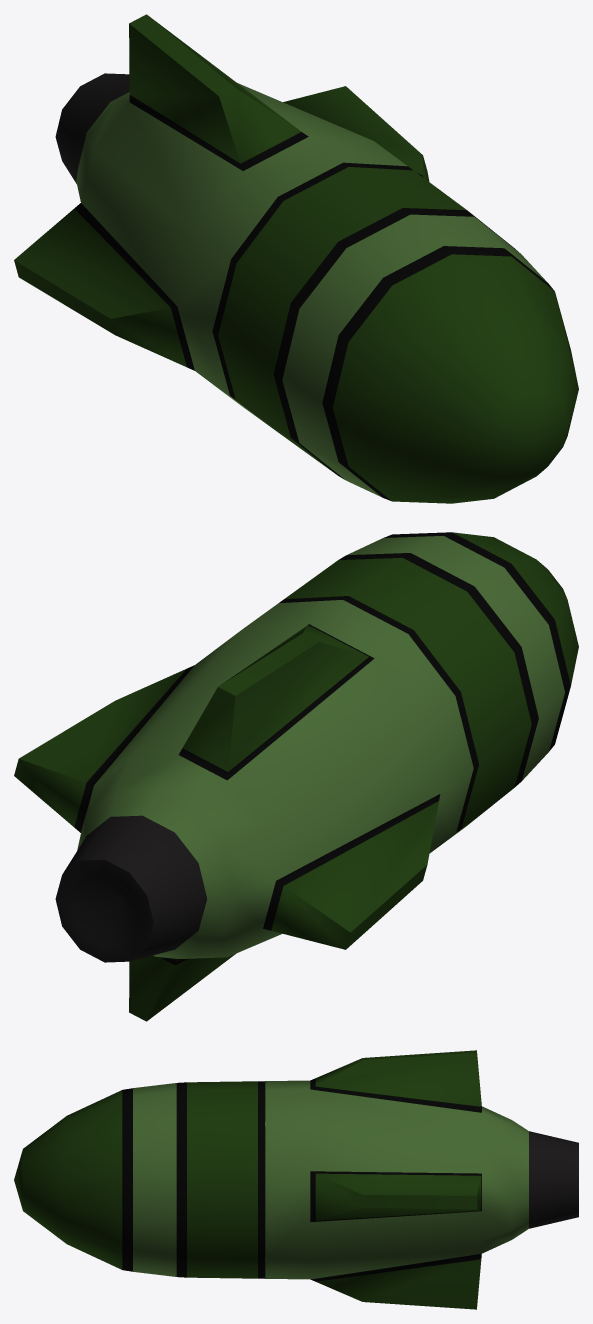
The model's file is Rocket06_Green.fbx.
The picture shows the model from 3 angles, top to bottom: view 1: azimuth 30°, elevation 25°; view 2: azimuth 150°, elevation 25°; view 3: azimuth 270°, elevation 25°; orthographic projection. The views are drawn at different scales.
Parts seen in each view (by area): view 1: Rocket06_Green; view 2: Rocket06_Green; view 3: Rocket06_Green.
Boxes of the visible parts, x1,y1,x2,y2 form: Rocket06_Green: (14,14,578,503); Rocket06_Green: (14,532,578,1021); Rocket06_Green: (14,1050,578,1309).
Bounding box in the file's own units: 256 × 256 × 566.
Materials: 1 (1 with a texture image).
